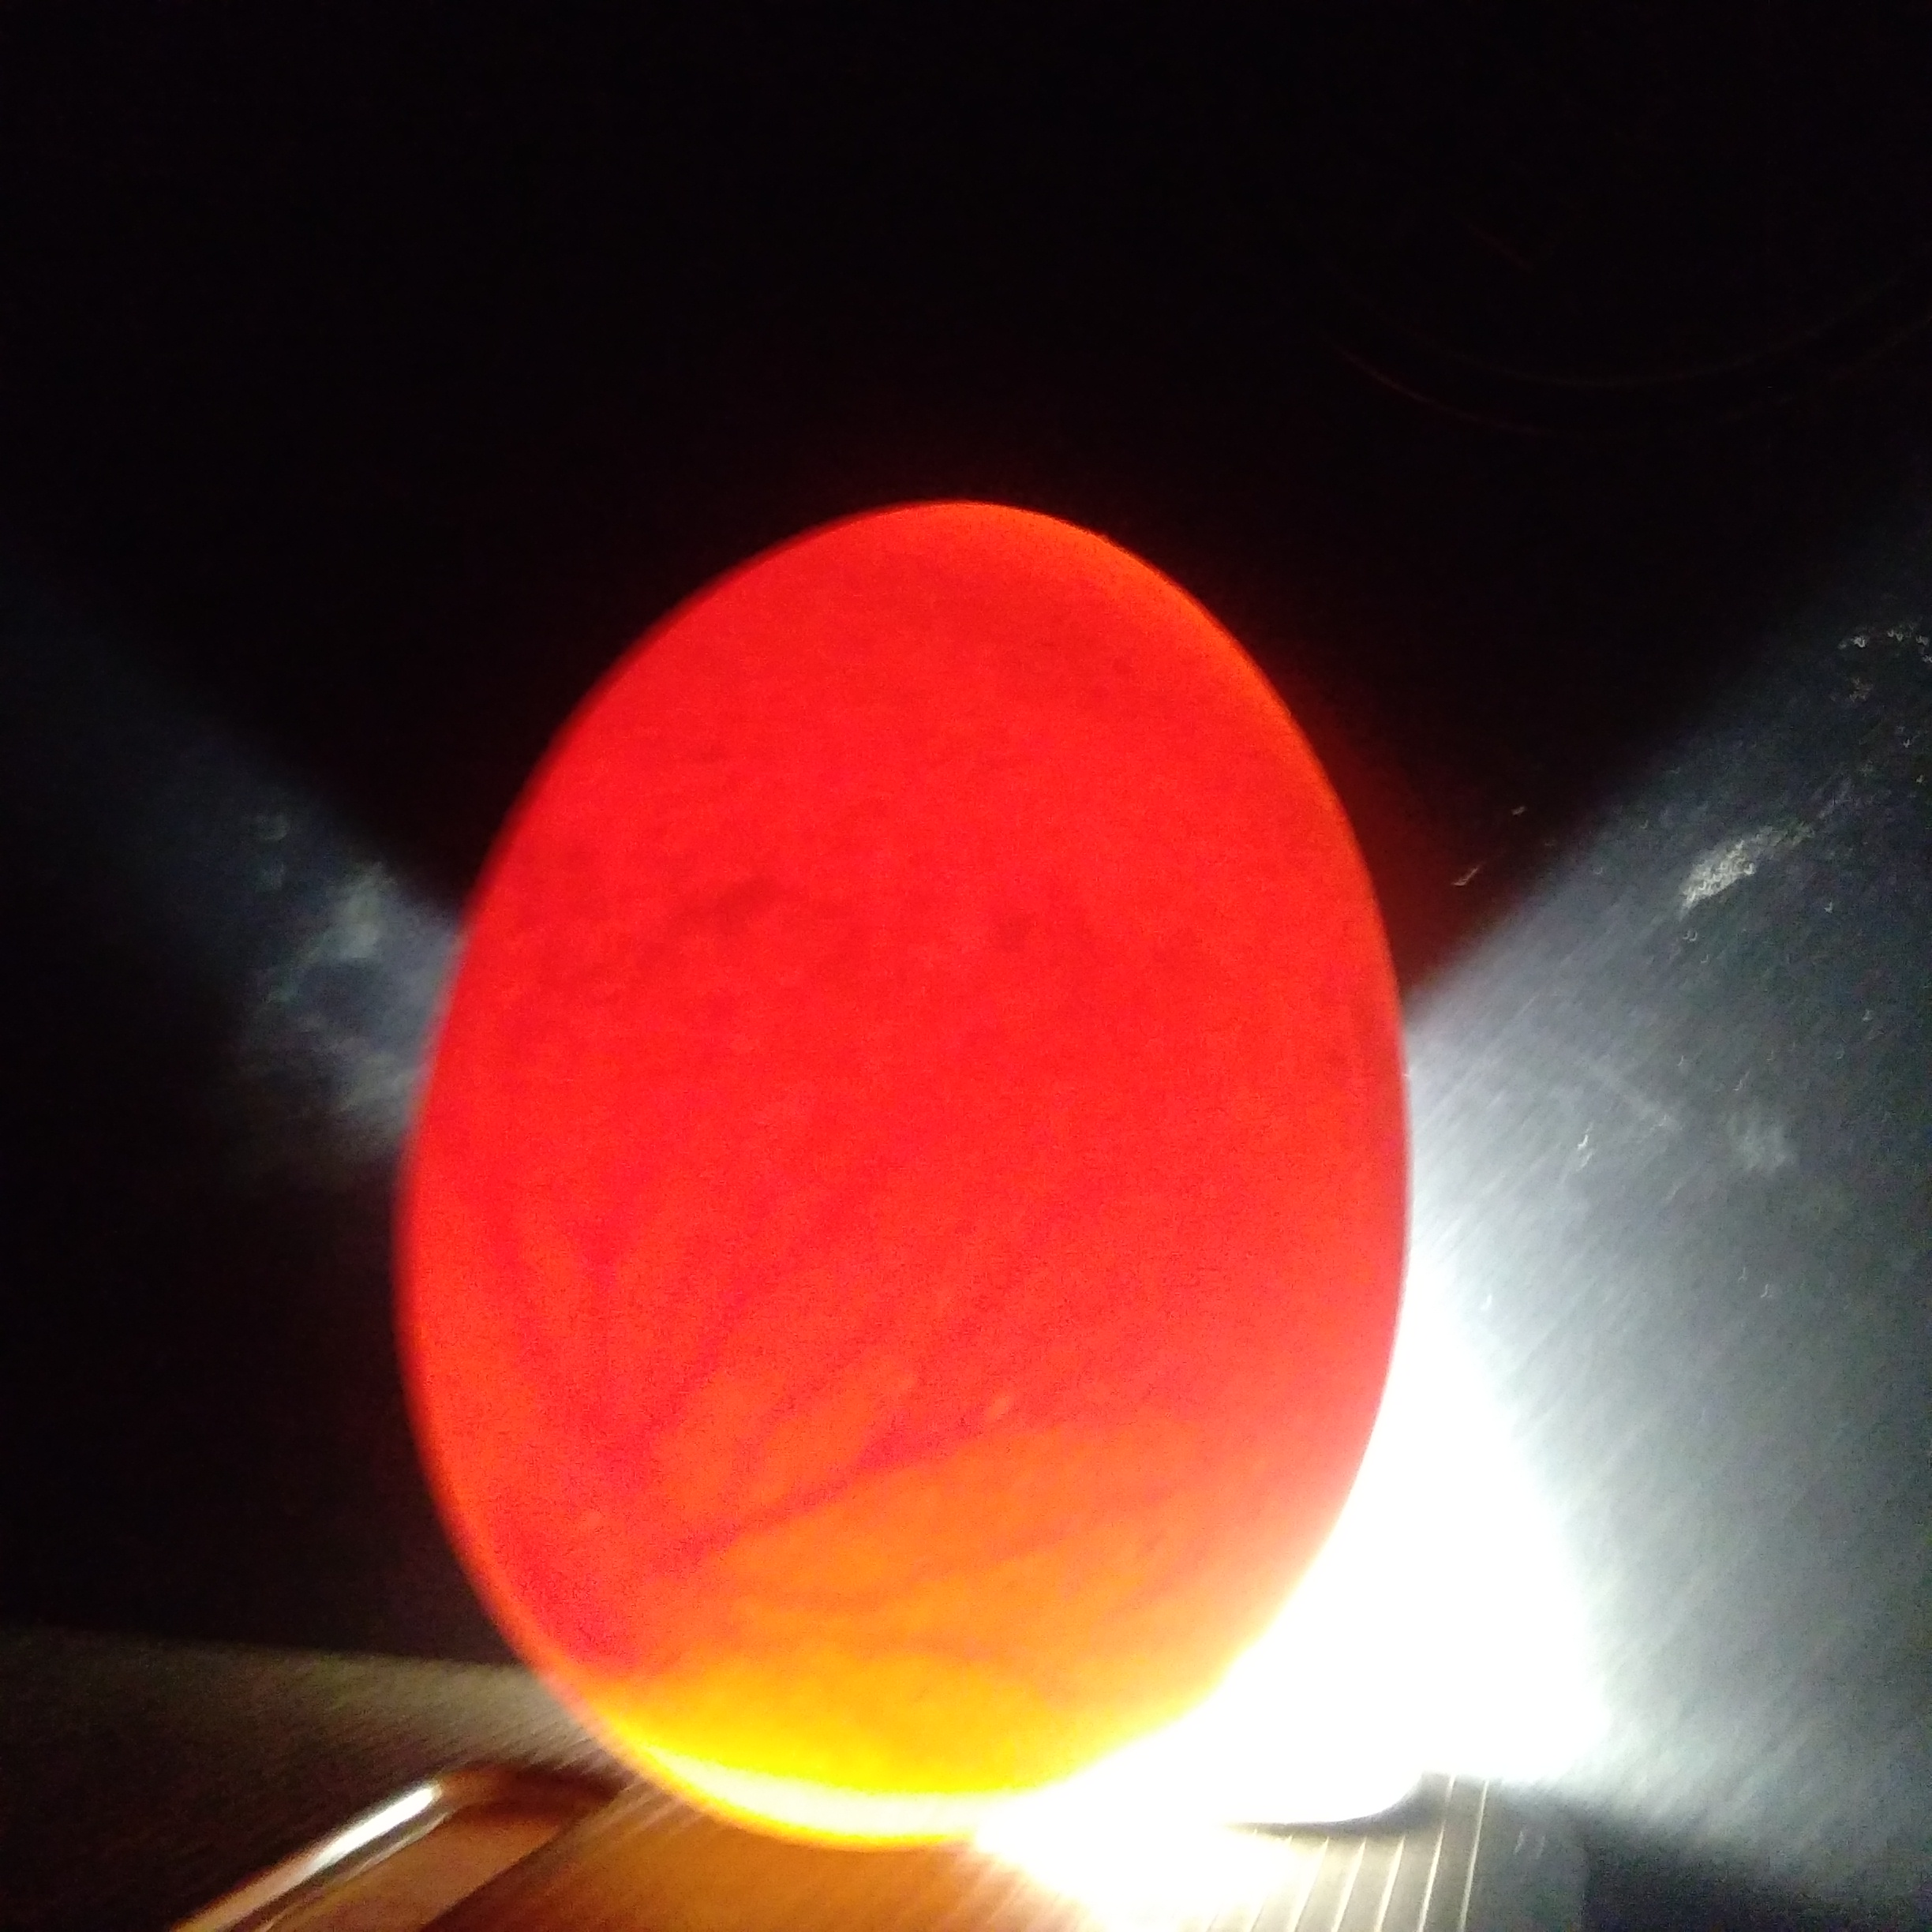bloodcell: (701, 1265, 1277, 1654), (471, 1260, 656, 1516)
